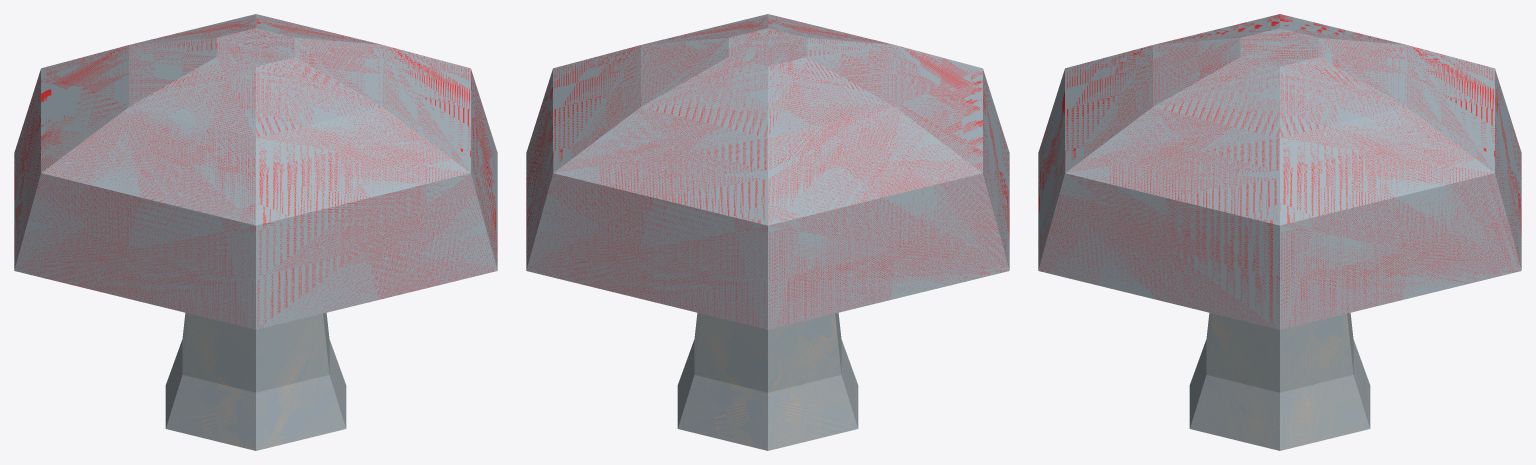
The model's file is Mushroom_02.fbx.
3 views of the same model, side by side, from view 1: azimuth 30°, elevation 25°; view 2: azimuth 150°, elevation 25°; view 3: azimuth 270°, elevation 25° (orthographic).
Visible parts, largest first — view 1: Model; view 2: Model; view 3: Model.
Part boxes in pixels (box(x1,y1,x2,y2)): Model: box(14, 14, 497, 450); Model: box(526, 14, 1009, 450); Model: box(1038, 14, 1521, 450).
Bounding box in the file's own units: 65.04 × 46.23 × 56.33.
